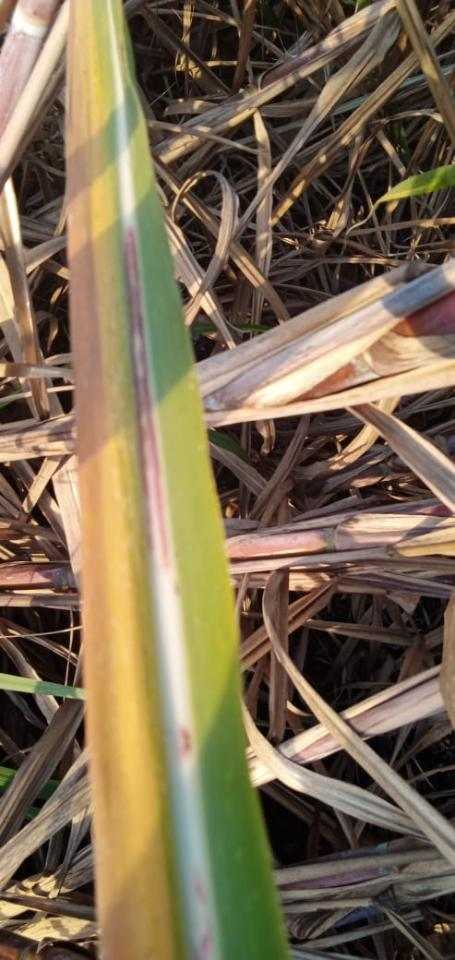RedRot: (122, 219, 170, 573), (190, 863, 216, 959), (177, 719, 192, 761)
